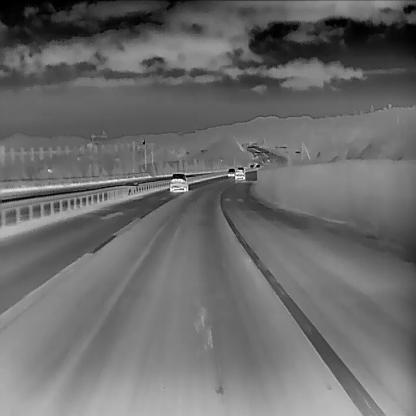car: (168, 172, 189, 192), (233, 168, 245, 180), (227, 166, 236, 176)
